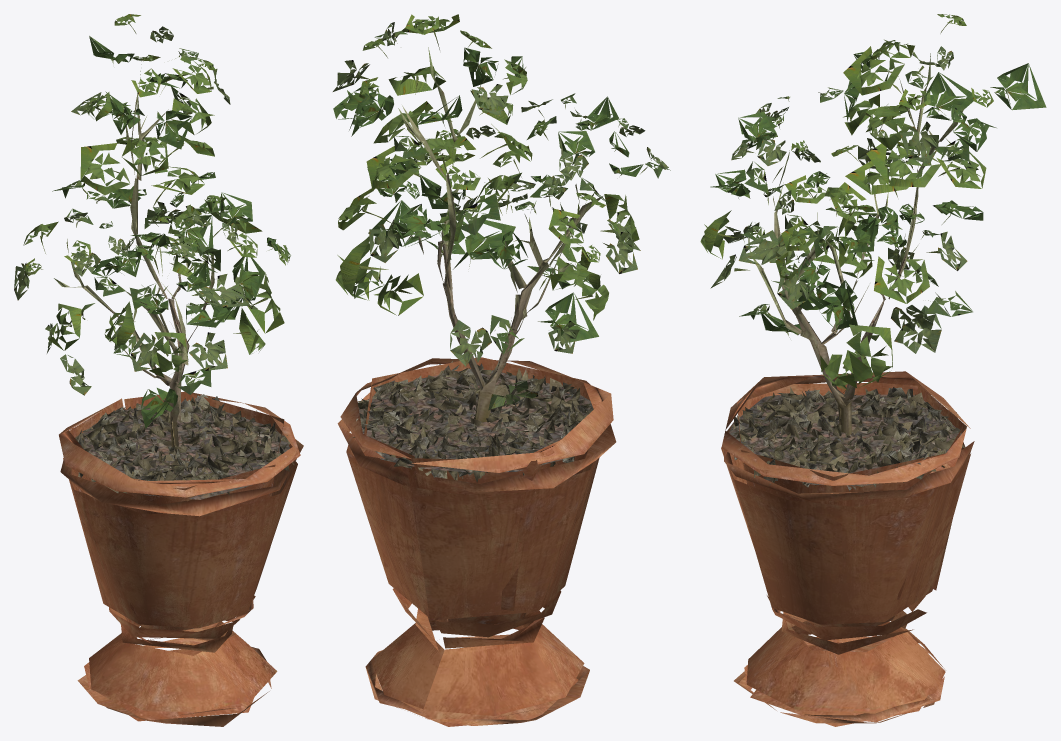
Rendered from potted_plant_01.glb.
The picture shows the model from 3 angles, left to right: view 1: azimuth 30°, elevation 25°; view 2: azimuth 150°, elevation 25°; view 3: azimuth 270°, elevation 25°; orthographic projection. The views are drawn at different scales.
Visible parts, largest first — view 1: potted_plant_01_pot, potted_plant_01_leaves, potted_plant_01_pebbles, potted_plant_01_stem; view 2: potted_plant_01_pot, potted_plant_01_leaves, potted_plant_01_pebbles, potted_plant_01_stem; view 3: potted_plant_01_pot, potted_plant_01_leaves, potted_plant_01_pebbles, potted_plant_01_stem.
Boxes of the visible parts, x1,y1,x2,y2 form: potted_plant_01_pot: (59,391,303,726); potted_plant_01_leaves: (14,14,290,428); potted_plant_01_pebbles: (75,394,294,499); potted_plant_01_stem: (54,61,214,447); potted_plant_01_pot: (337,357,616,726); potted_plant_01_leaves: (333,14,670,410); potted_plant_01_pebbles: (353,360,593,482); potted_plant_01_stem: (398,47,602,422); potted_plant_01_pot: (721,371,974,726); potted_plant_01_leaves: (700,14,1046,390); potted_plant_01_pebbles: (729,387,965,490); potted_plant_01_stem: (748,53,964,434).
Size of the model in its own units: 0.5782 by 1.33 by 0.626.
2 materials, 2 textured.
